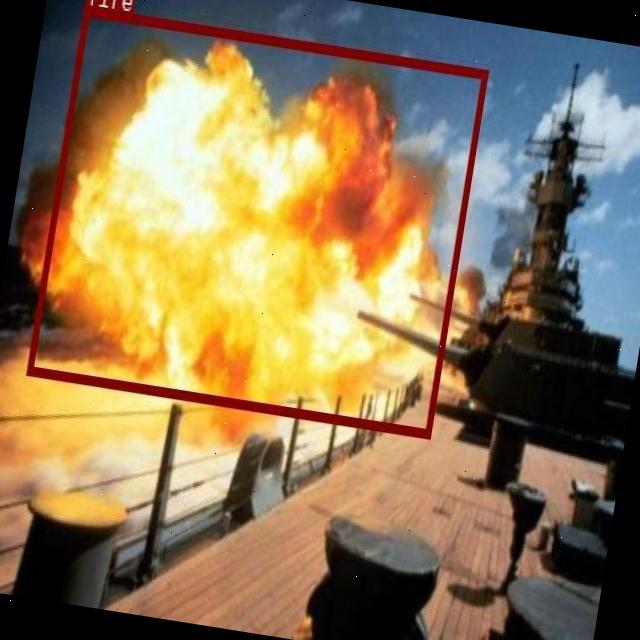fire: (26, 4, 488, 437)
